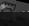helmet: (0, 0, 16, 12)
